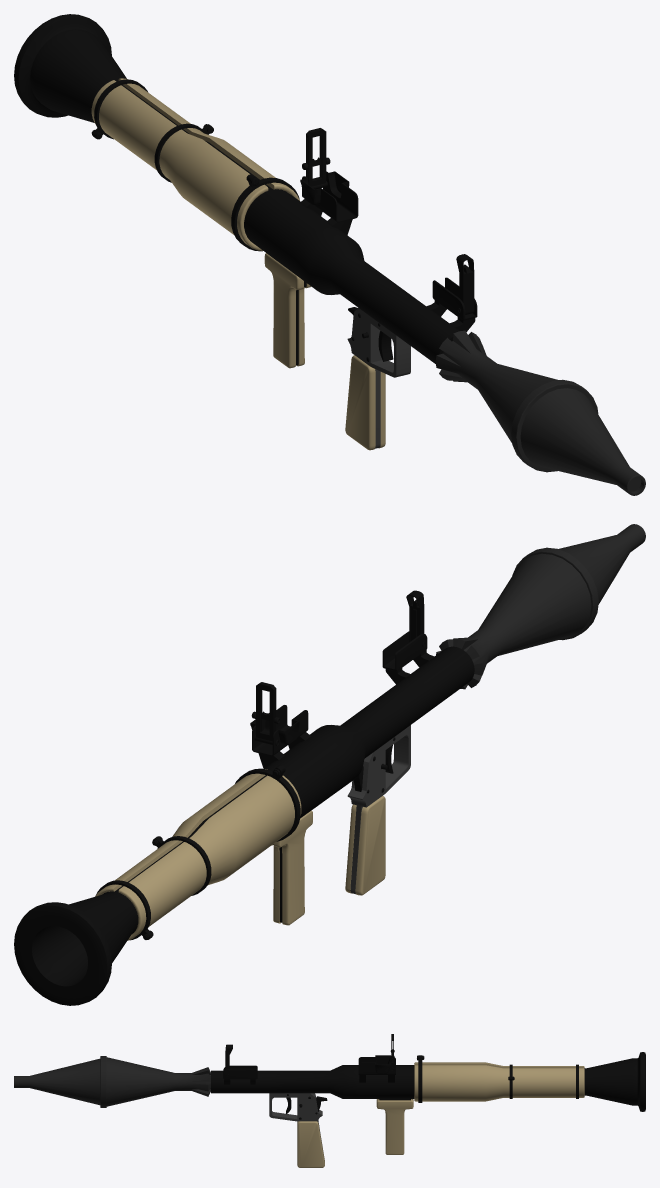
File: RPG7.FBX
The picture shows the model from 3 angles, top to bottom: view 1: azimuth 30°, elevation 25°; view 2: azimuth 150°, elevation 25°; view 3: azimuth 270°, elevation 25°; orthographic projection. The views are drawn at different scales.
Visible parts, largest first — view 1: RPG-7 Launcher, RPG (RPG-7), Rear Sight (RPG-7), Front Sight (RPG-7); view 2: RPG-7 Launcher, RPG (RPG-7), Rear Sight (RPG-7), Front Sight (RPG-7); view 3: RPG-7 Launcher, RPG (RPG-7).
Boxes of the visible parts, <box> form: RPG-7 Launcher: <box>14,14,477,450</box>; RPG (RPG-7): <box>435,330,645,495</box>; Rear Sight (RPG-7): <box>306,128,327,189</box>; Front Sight (RPG-7): <box>456,254,474,314</box>; RPG-7 Launcher: <box>14,631,474,1005</box>; RPG (RPG-7): <box>436,524,645,689</box>; Rear Sight (RPG-7): <box>254,682,279,745</box>; Front Sight (RPG-7): <box>406,590,425,646</box>; RPG-7 Launcher: <box>211,1052,645,1167</box>; RPG (RPG-7): <box>14,1056,210,1107</box>.
Bounding box in the file's own units: 0.1341 × 0.3565 × 1.41.
